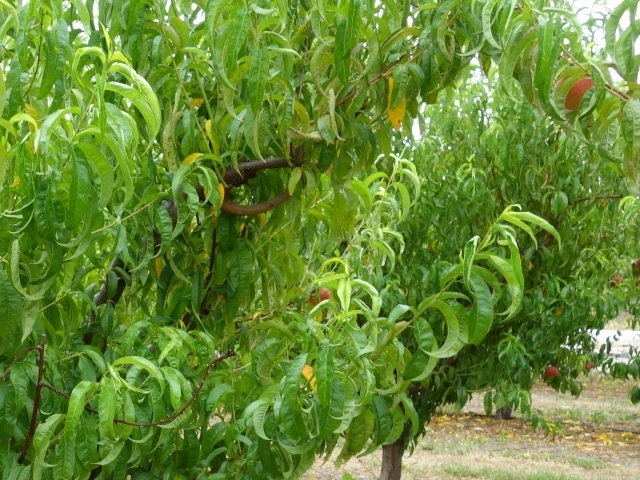peach: (549, 71, 601, 115), (306, 285, 331, 309)
